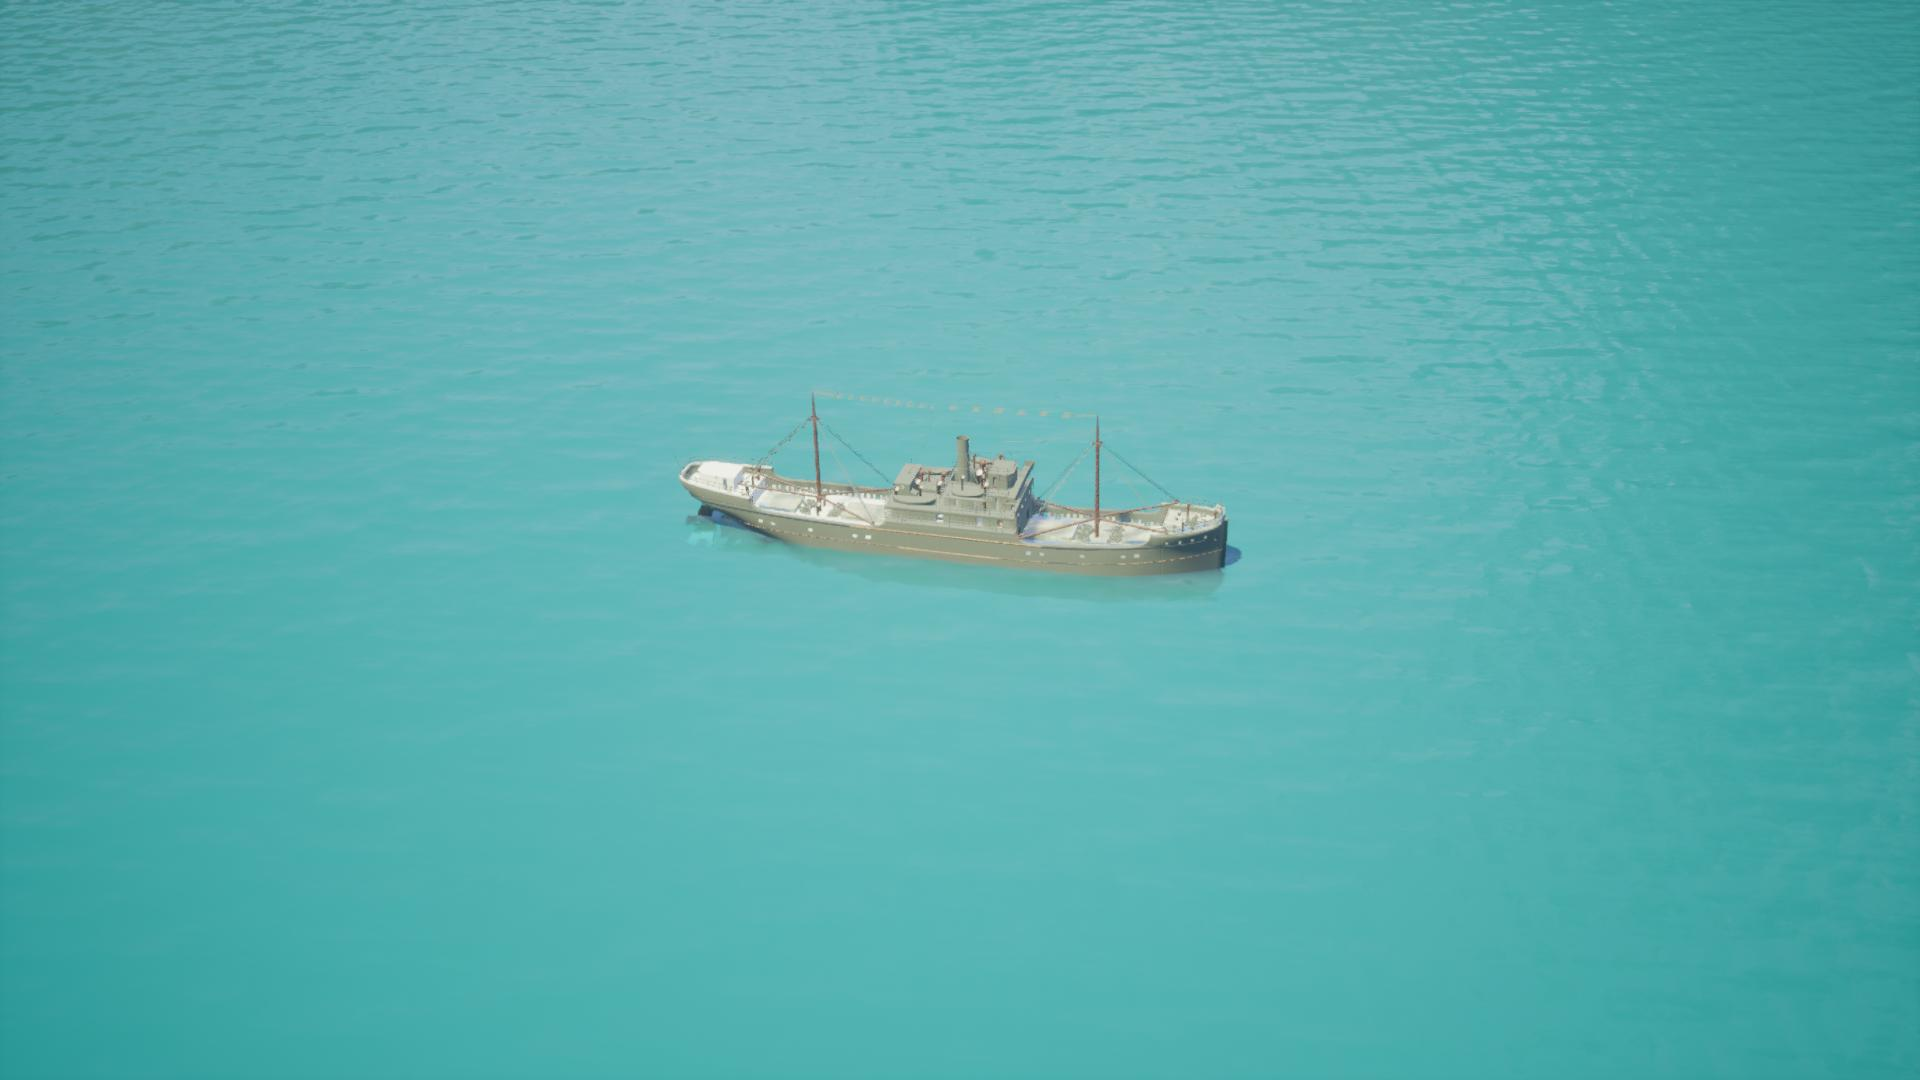Fishing Boat: (678, 394, 1237, 587)
